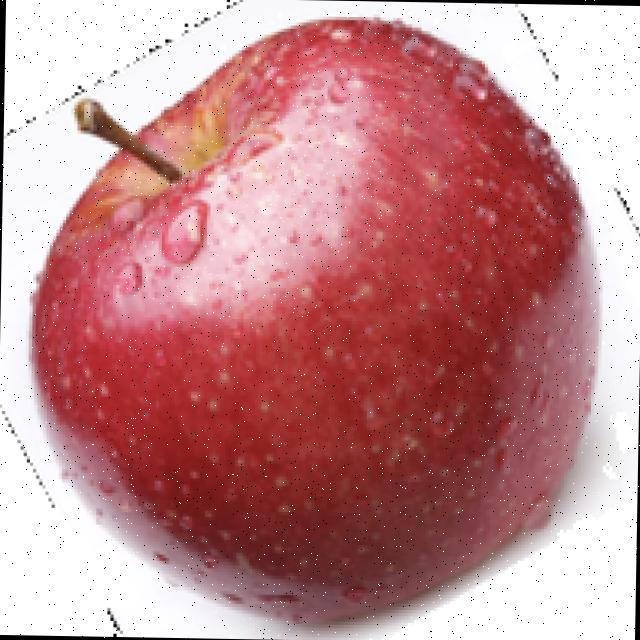apple: (22, 10, 635, 638)
